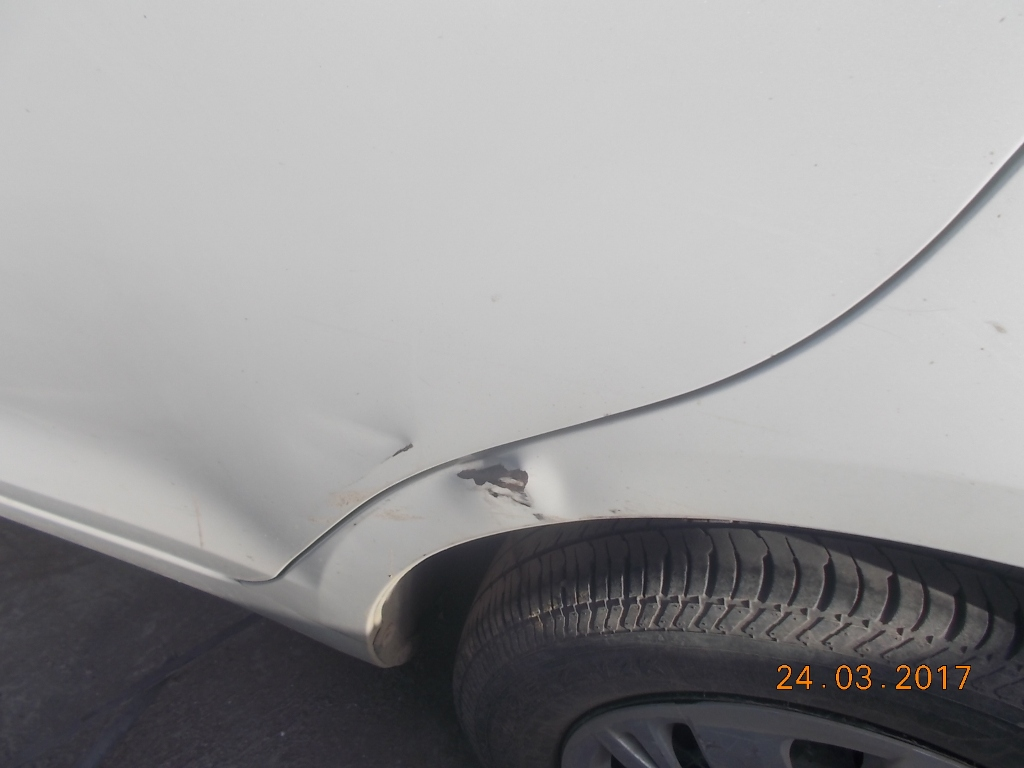Scratch_or_spot: (462, 464, 538, 511)
